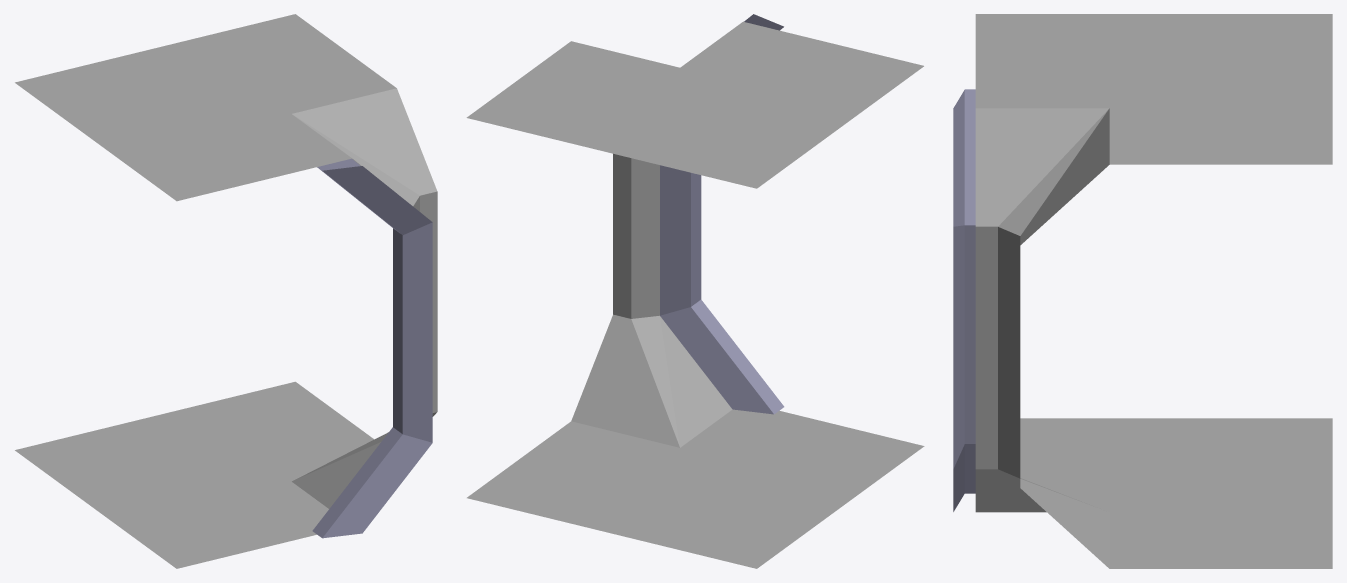
File: SS_Tile_CornerInside_v05.fbx
The picture shows the model from 3 angles, left to right: view 1: azimuth 30°, elevation 25°; view 2: azimuth 150°, elevation 25°; view 3: azimuth 270°, elevation 25°; orthographic projection. The views are drawn at different scales.
Parts seen in each view (by area): view 1: Tile_CornerInside00; view 2: Tile_CornerInside00; view 3: Tile_CornerInside00.
Boxes of the visible parts, x1=… form: Tile_CornerInside00: x1=15, y1=14, x2=437, y2=568; Tile_CornerInside00: x1=466, y1=14, x2=924, y2=568; Tile_CornerInside00: x1=953, y1=14, x2=1332, y2=568.
Size of the model in its own units: 2 by 2.5 by 2.12.
